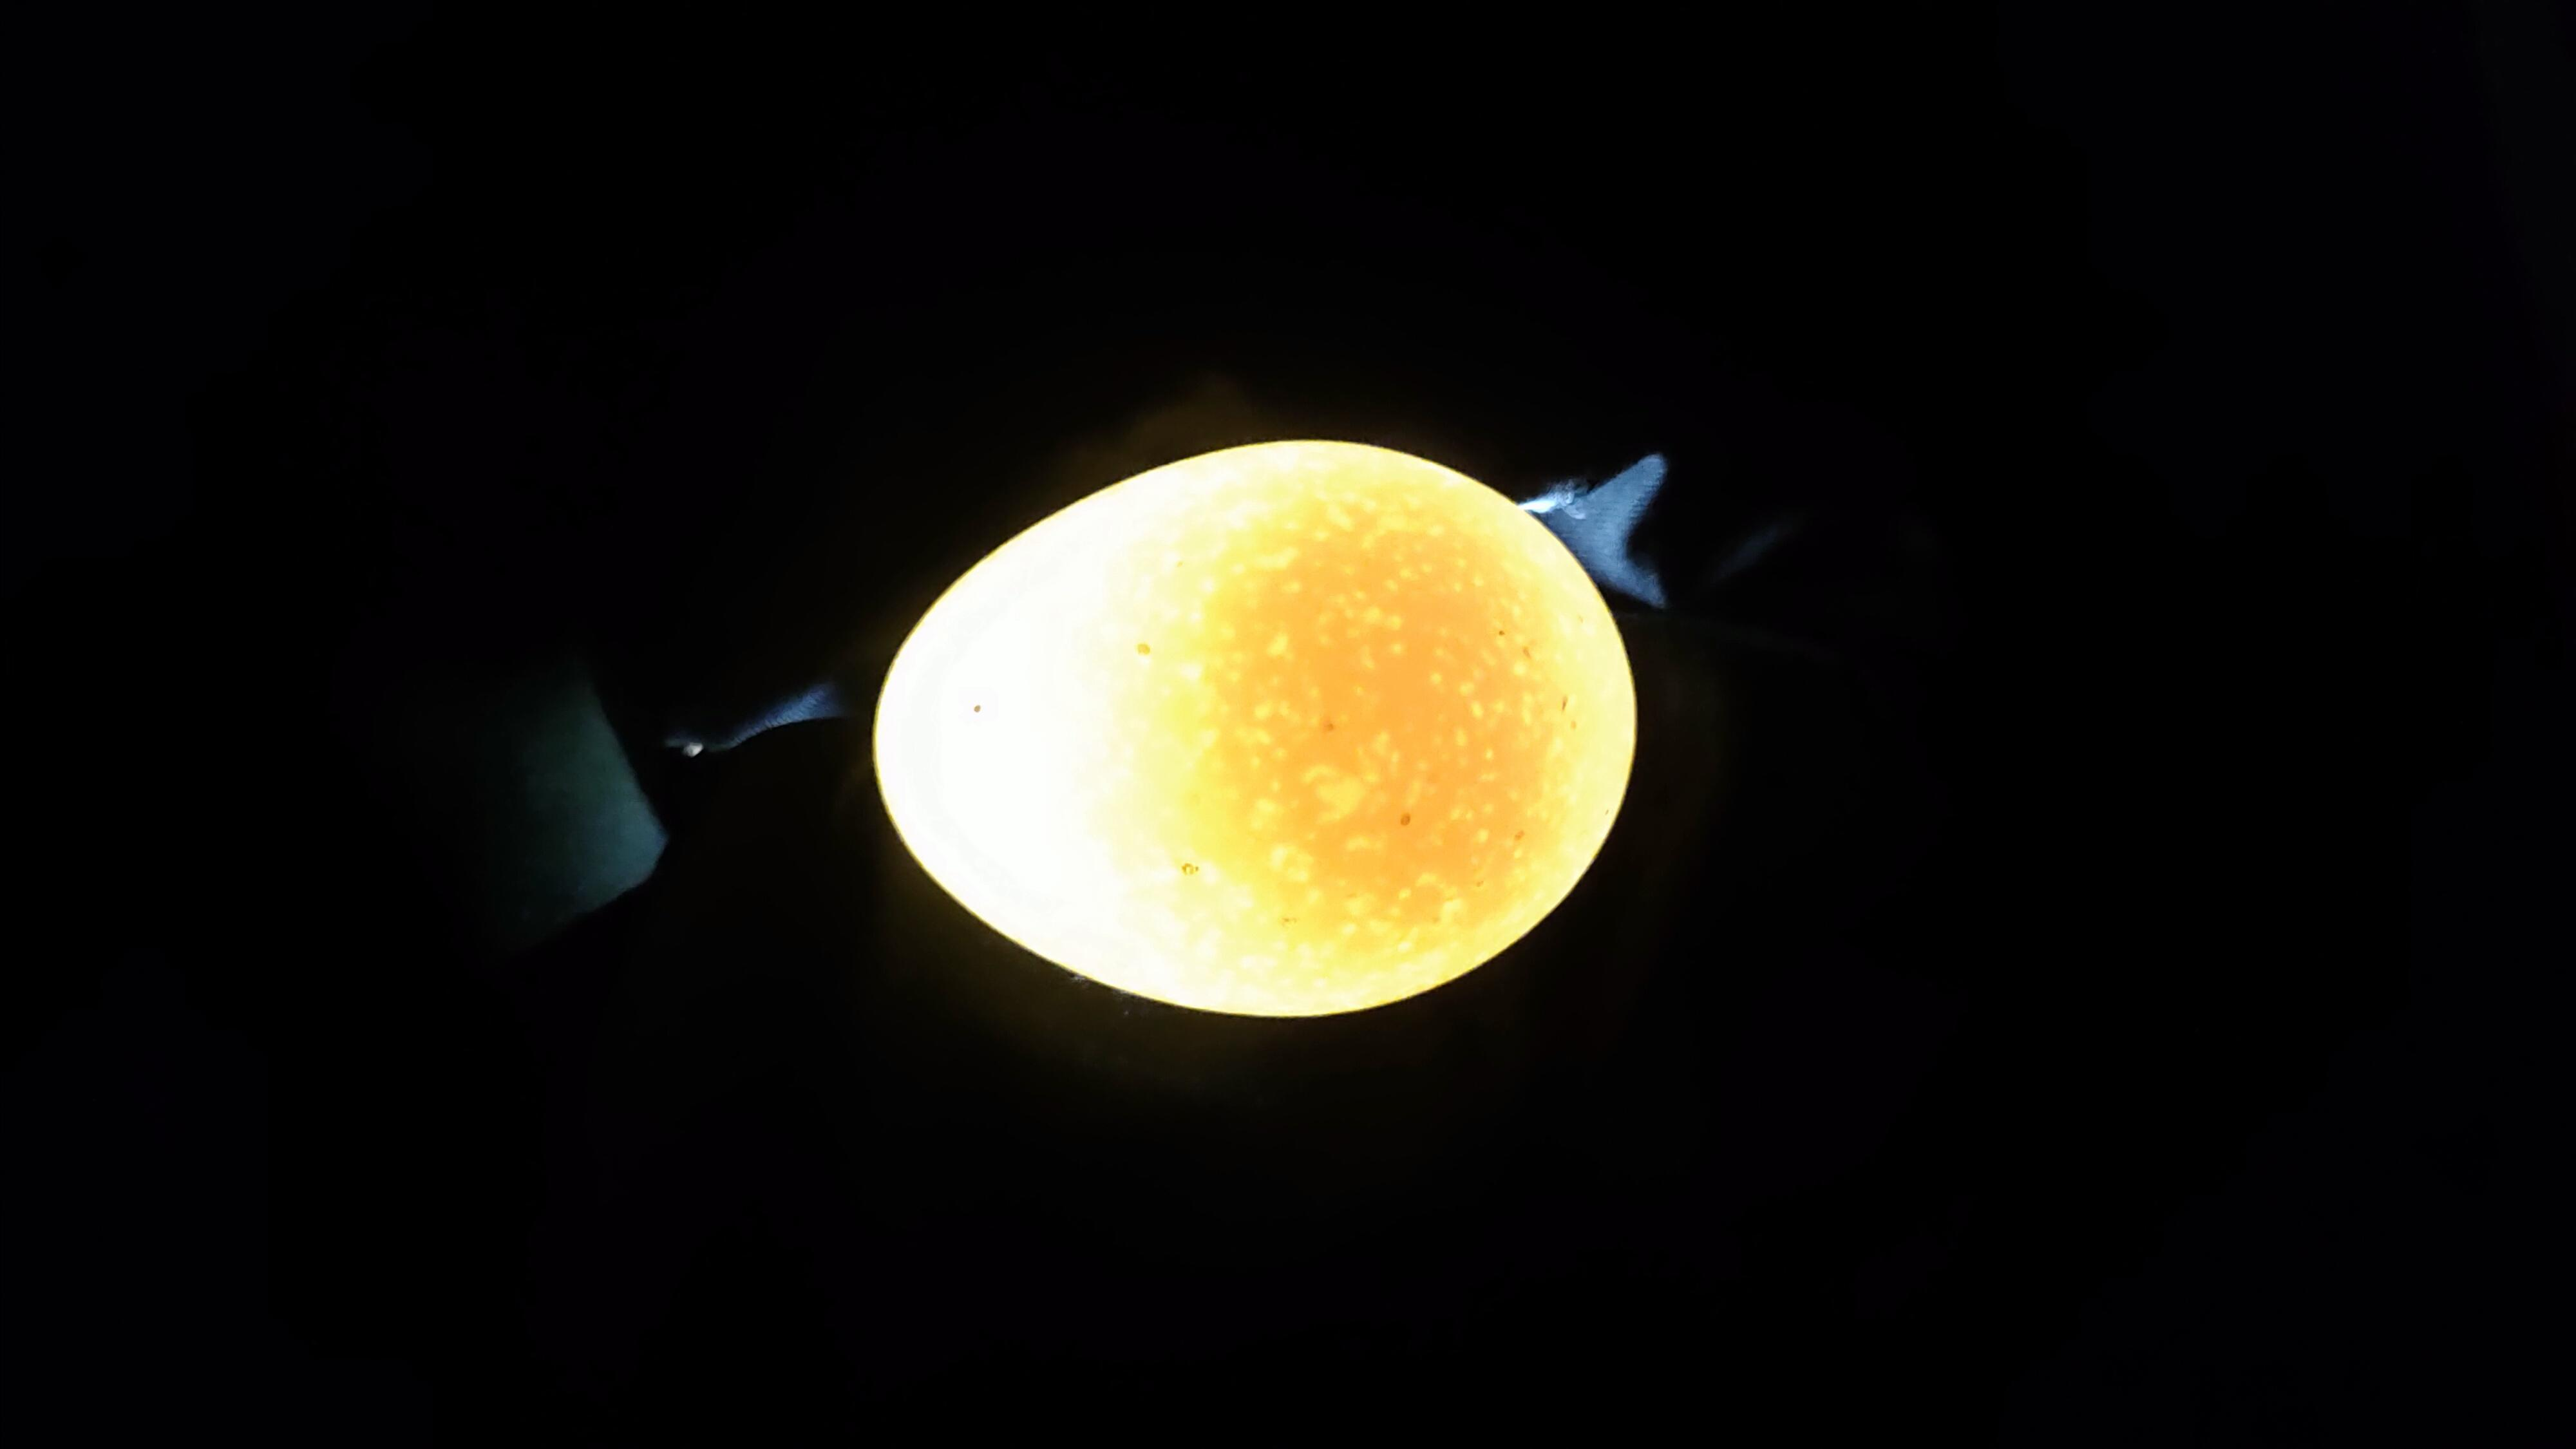Inedible: (844, 423, 1683, 1067)
